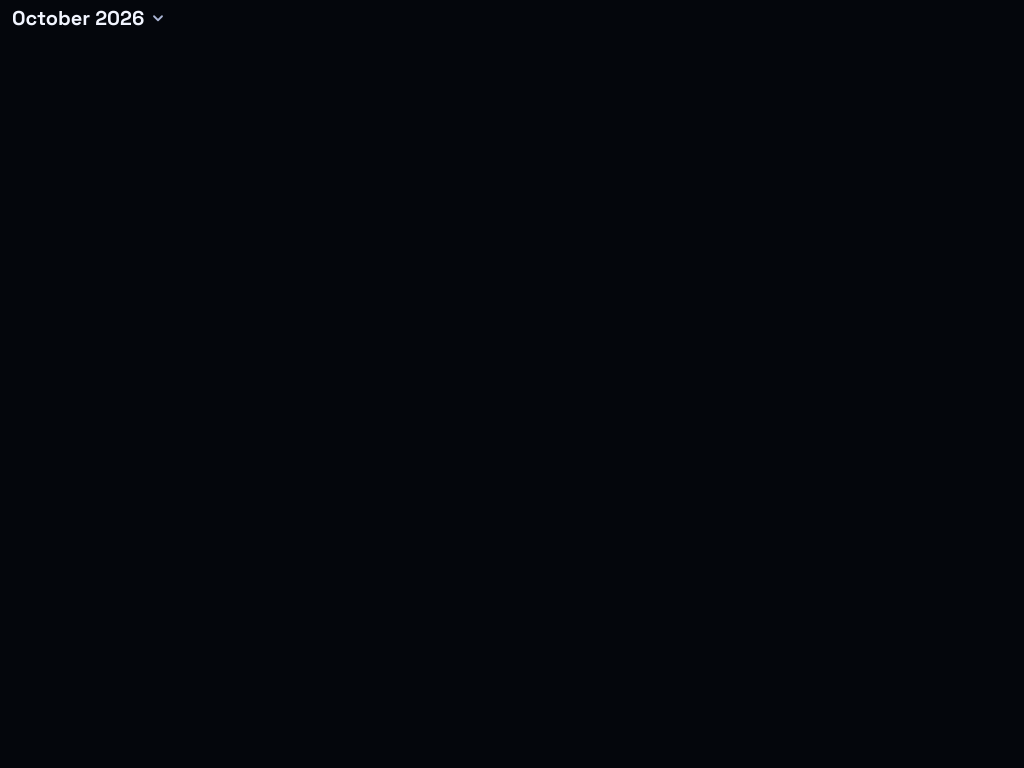
Test: MonthPicker (calendário de um mês) › o nome do mês abre a escolha de ano e mantém o mês
The width and height of the screenshot is (1024, 768).
Step 1. Click the button with aria-label "October 2026 — choose day" → x=88, y=18, box [0,0,176,36]
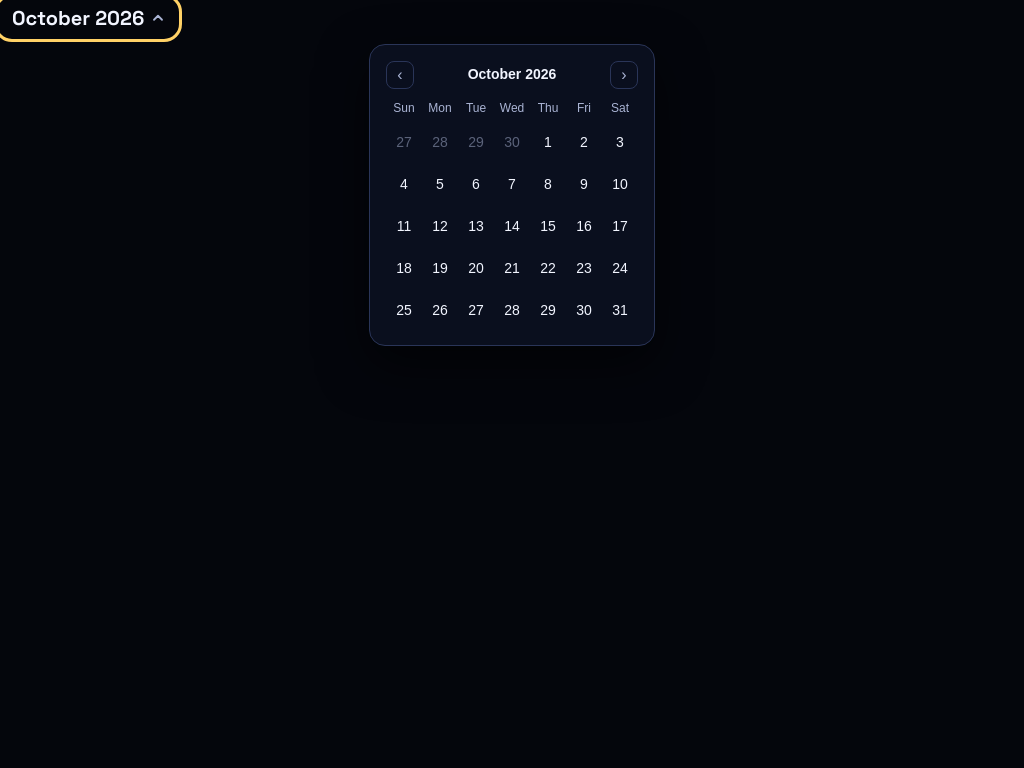
Step 2. Click the 2nd button "October 2026" → x=512, y=74, box [460,61,564,87]
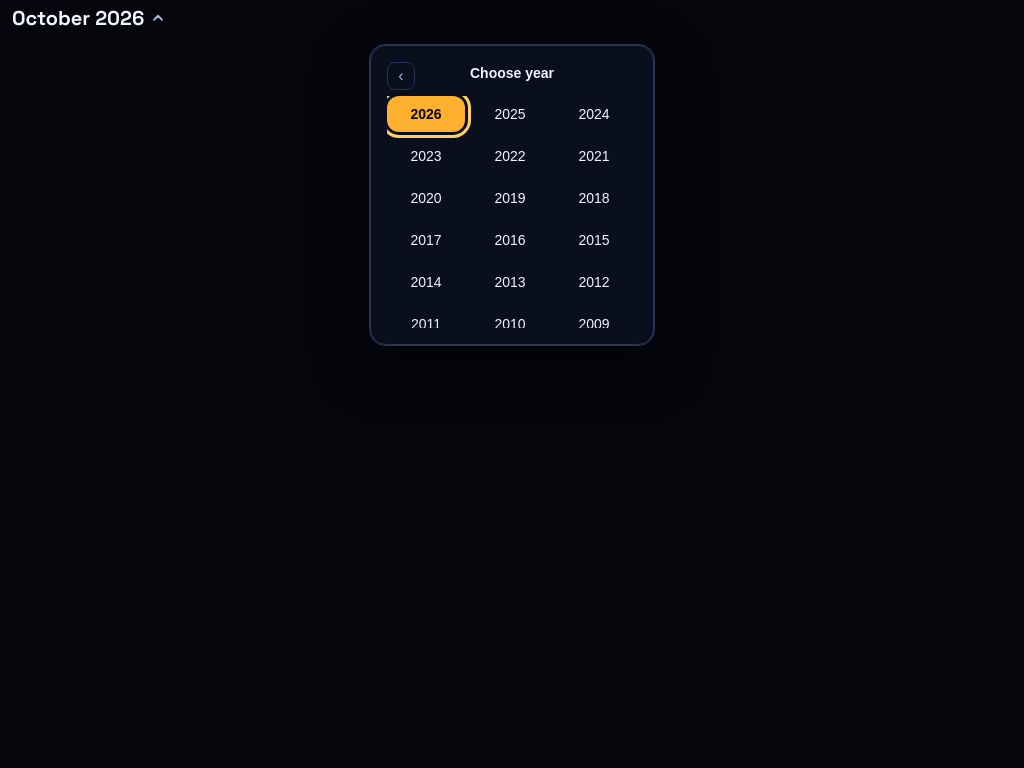
Step 3. Click the button "2019" → x=510, y=198, box [471,180,549,216]
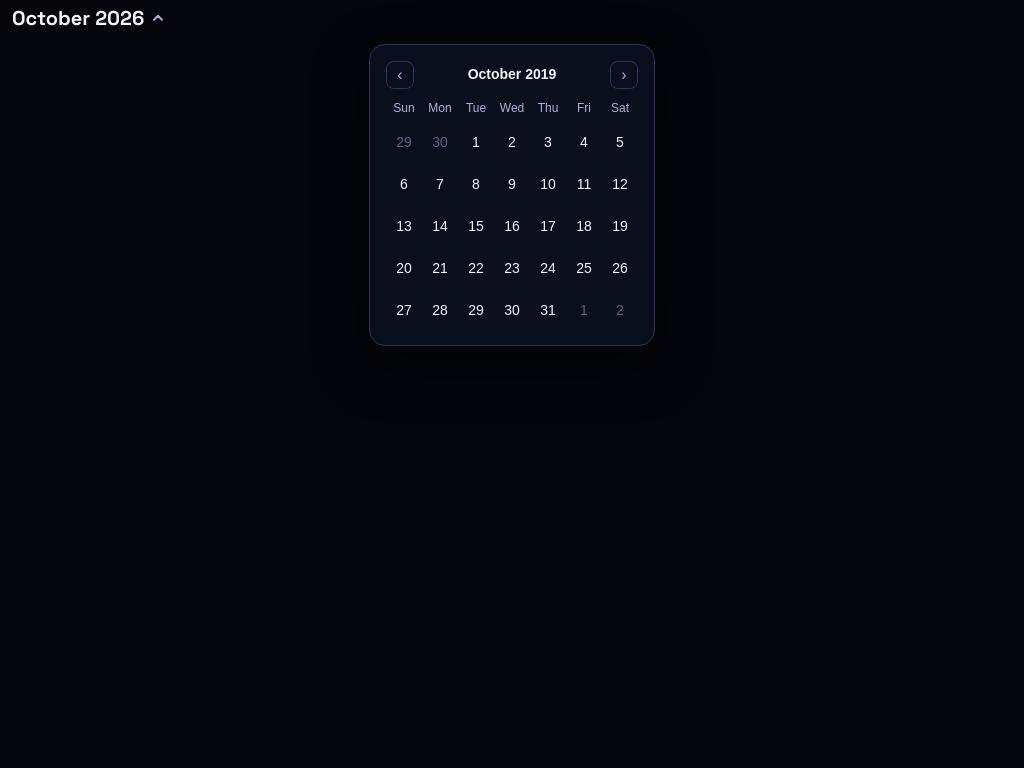
Now the text "Choose year" is gone
Now the button "October 2019" is shown, box [460,61,564,87]
